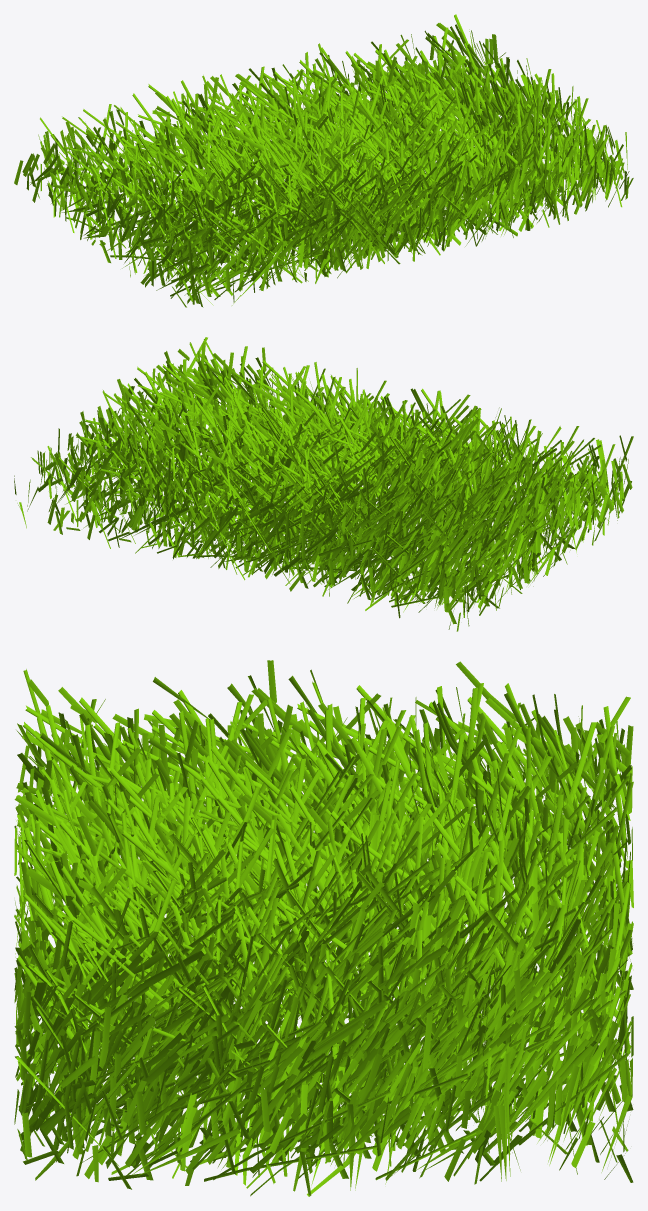
Rendered from grass-processed.glb.
The picture shows the model from 3 angles, top to bottom: view 1: azimuth 30°, elevation 25°; view 2: azimuth 150°, elevation 25°; view 3: azimuth 270°, elevation 25°; orthographic projection. The views are drawn at different scales.
Visible parts, largest first — view 1: weed14; view 2: weed14; view 3: weed14.
Part boxes in pixels (x1,y1,x2,y2): weed14: (14,14,633,307); weed14: (14,337,633,631); weed14: (14,660,633,1196).
Size of the model in its own units: 98.4 by 15.29 by 63.64.
